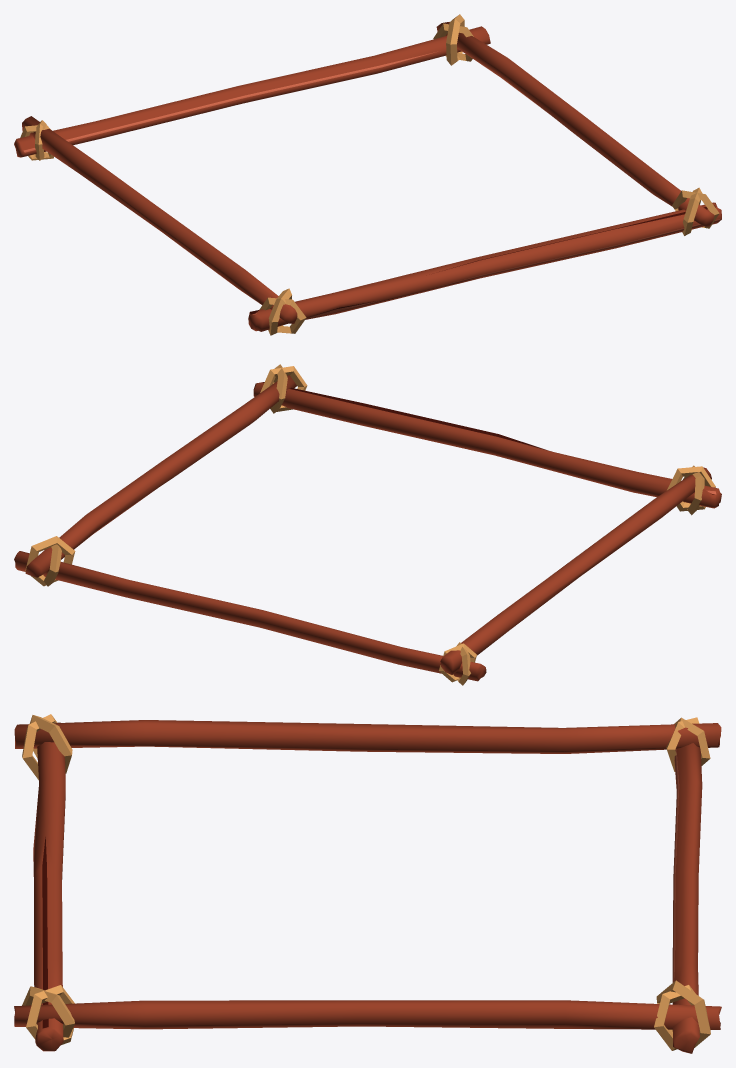
File: Wood_Twigs.glb
3 views of the same model, one above another, from view 1: azimuth 30°, elevation 25°; view 2: azimuth 150°, elevation 25°; view 3: azimuth 270°, elevation 25° (orthographic). The views are drawn at different scales.
Visible parts, largest first — view 1: PF_WoodSticks; view 2: PF_WoodSticks; view 3: PF_WoodSticks.
Boxes of the visible parts, x1,y1,x2,y2 form: PF_WoodSticks: (14,14,721,335); PF_WoodSticks: (14,364,721,685); PF_WoodSticks: (14,714,721,1053).
Size of the model in its own units: 1.16 by 0.1144 by 1.12.
2 materials, 1 textured.
